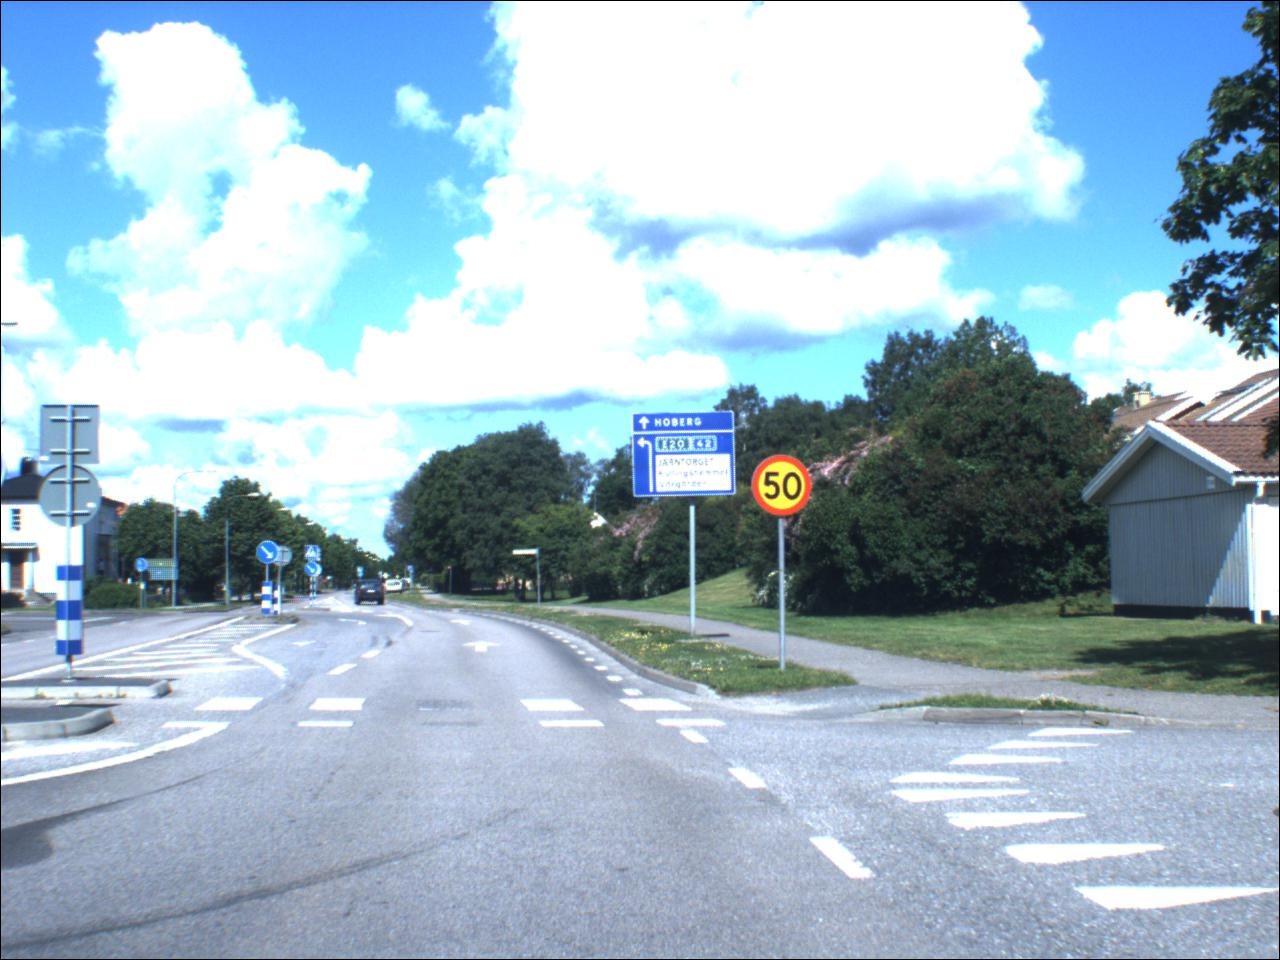50_SIGN: (754, 455, 815, 521)
PASS_RIGHT_SIDE: (256, 541, 281, 566), (306, 563, 321, 579)
PEDESTRIAN_CROSSING: (307, 547, 321, 562)
